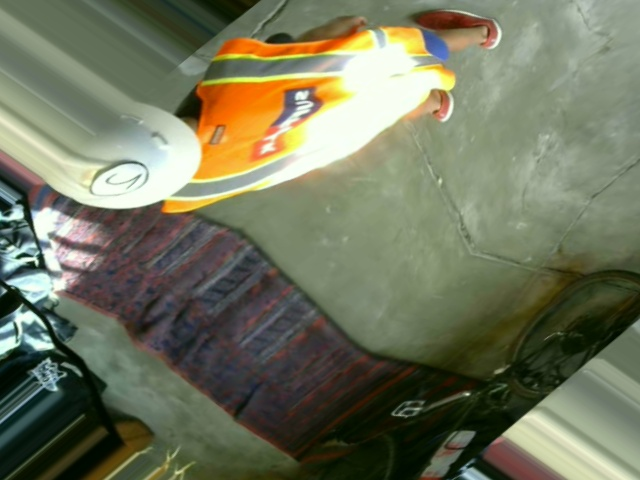two: (80, 153, 159, 206)
